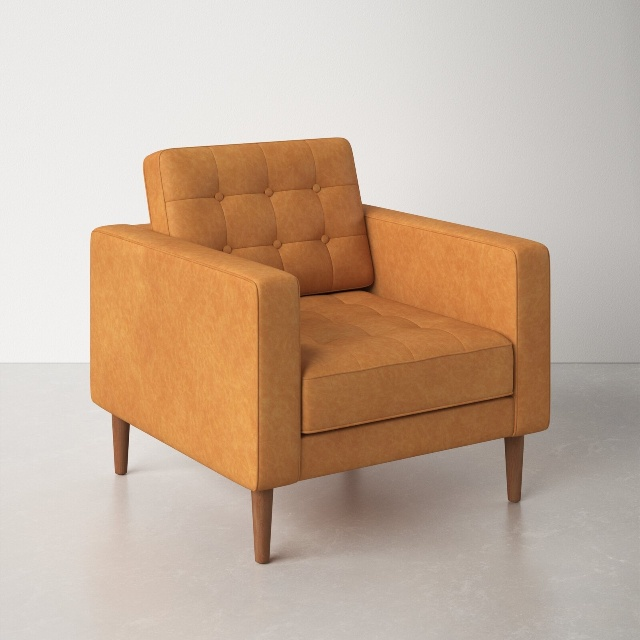obstacle: (91, 138, 549, 562)
